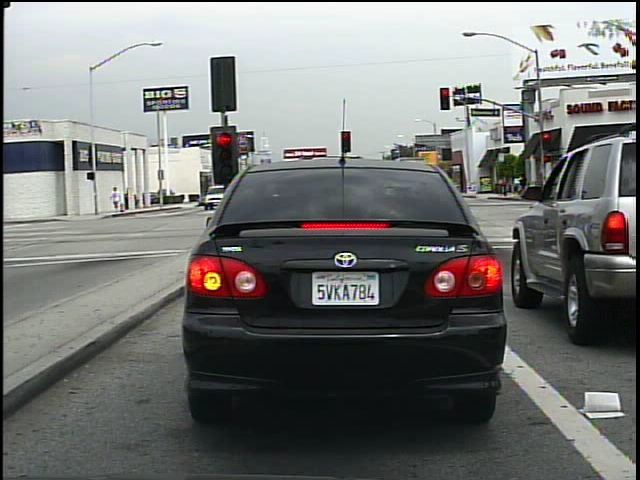person: (110, 184, 125, 214), (516, 170, 530, 194)
